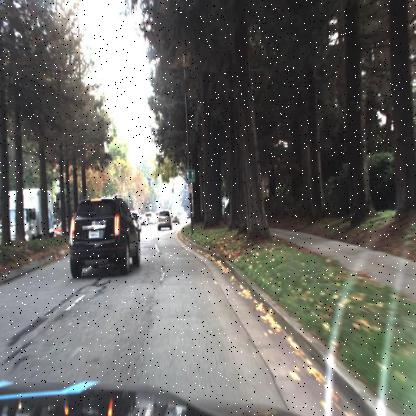car: (67, 196, 142, 281), (157, 207, 172, 232), (172, 208, 181, 229)
truck: (3, 187, 54, 244)
